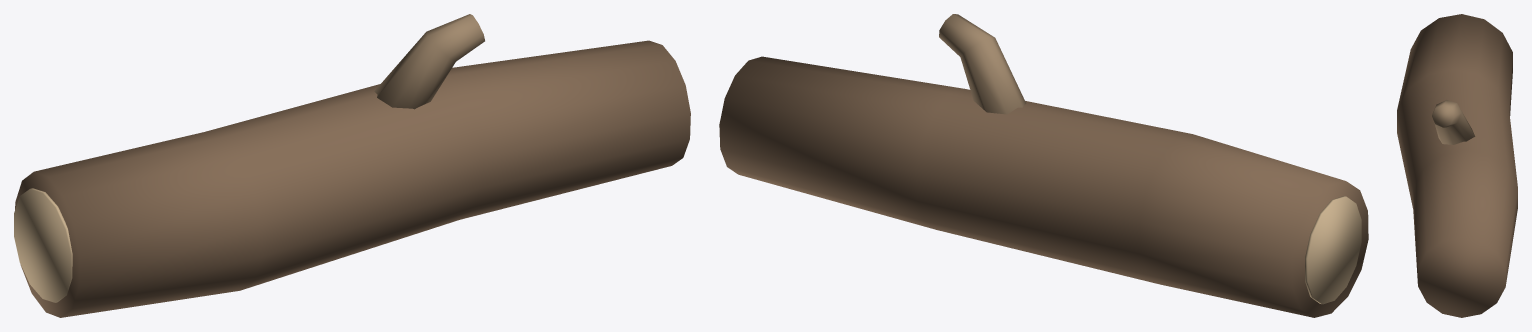
The model's file is SM_FallenLog.fbx.
3 views of the same model, side by side, from view 1: azimuth 30°, elevation 25°; view 2: azimuth 150°, elevation 25°; view 3: azimuth 270°, elevation 25° (orthographic). The views are drawn at different scales.
Visible parts, largest first — view 1: SM_FallenLog; view 2: SM_FallenLog; view 3: SM_FallenLog.
Boxes of the visible parts, bbox=[...] form: SM_FallenLog: bbox=[14, 14, 690, 317]; SM_FallenLog: bbox=[719, 14, 1368, 317]; SM_FallenLog: bbox=[1397, 14, 1517, 317].
Size of the model in its own units: 404 by 96.75 by 134.
